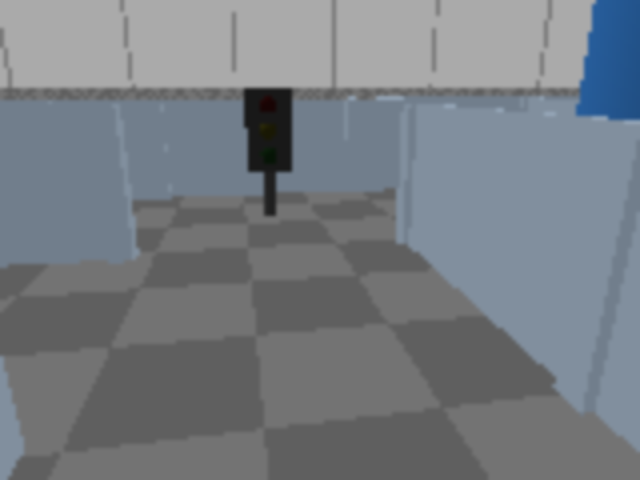person: (568, 0, 638, 352)
